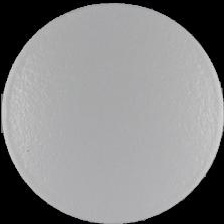60429-177: (0, 0, 224, 224)
